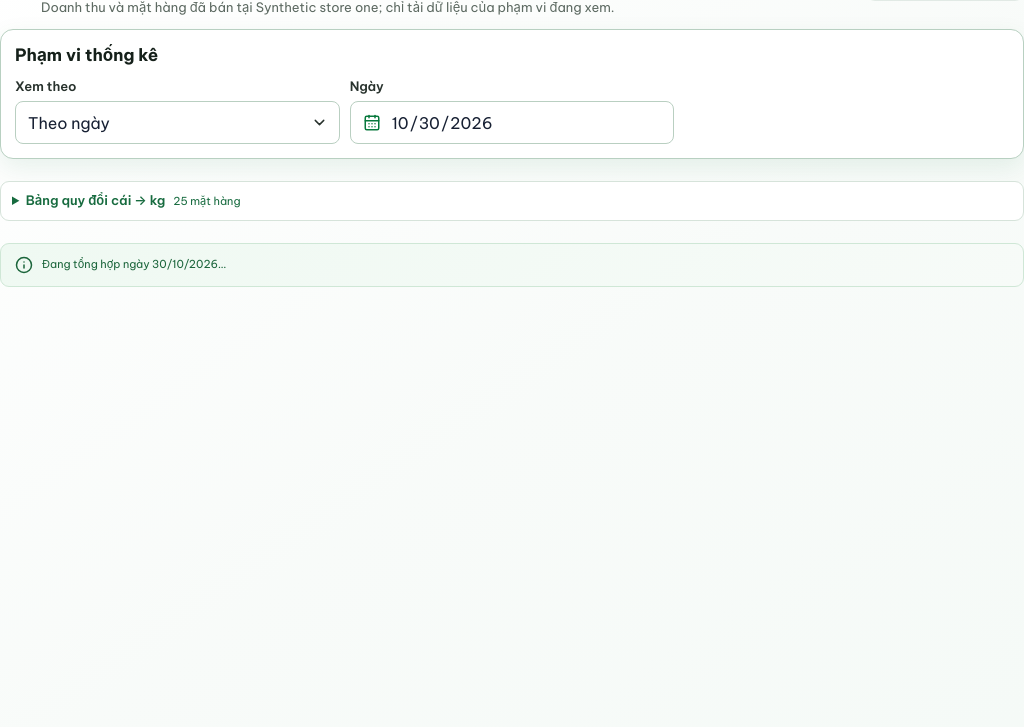
Test: store historical shift selection › selects the recorded evening snapshot and renders its three totals and products, not the day total
The image size is (1024, 727).
In the date field named "Ngày thống kê": (526, 122) top-left (390, 102), bottom-right (661, 143), type "2026-09-06"
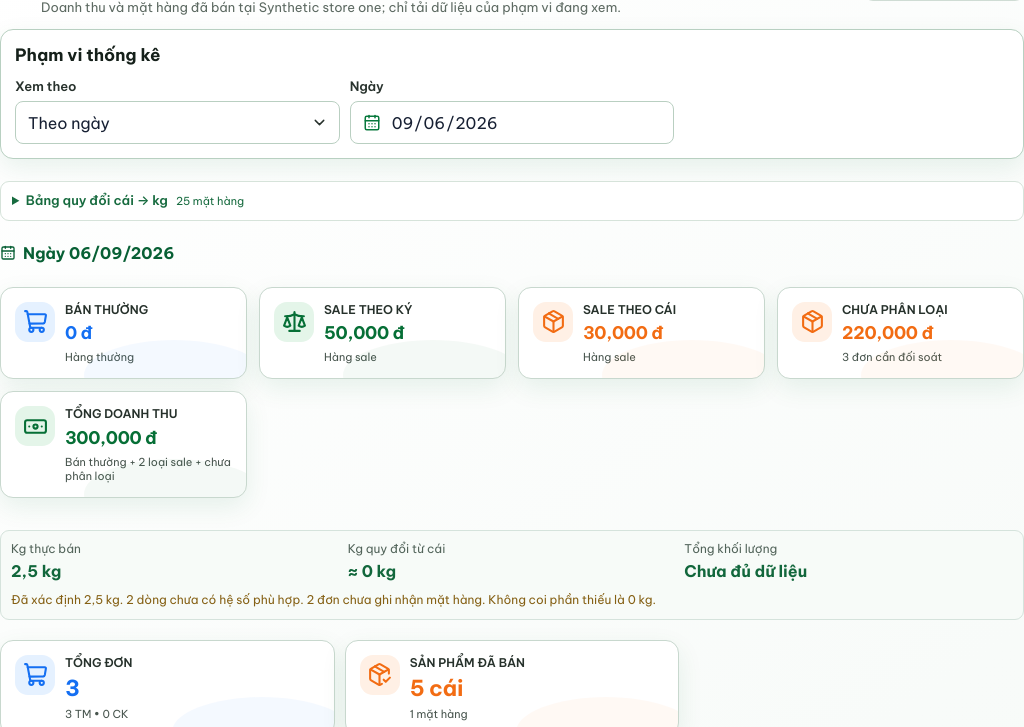
expect the element named "Doanh thu Ngày 06/09/2026" is shown: met, box top-left (0, 286), bottom-right (1023, 498)
Select "Theo ca" in the dropdown named "Xem thống kê theo": (166, 122) top-left (28, 102), bottom-right (305, 143)
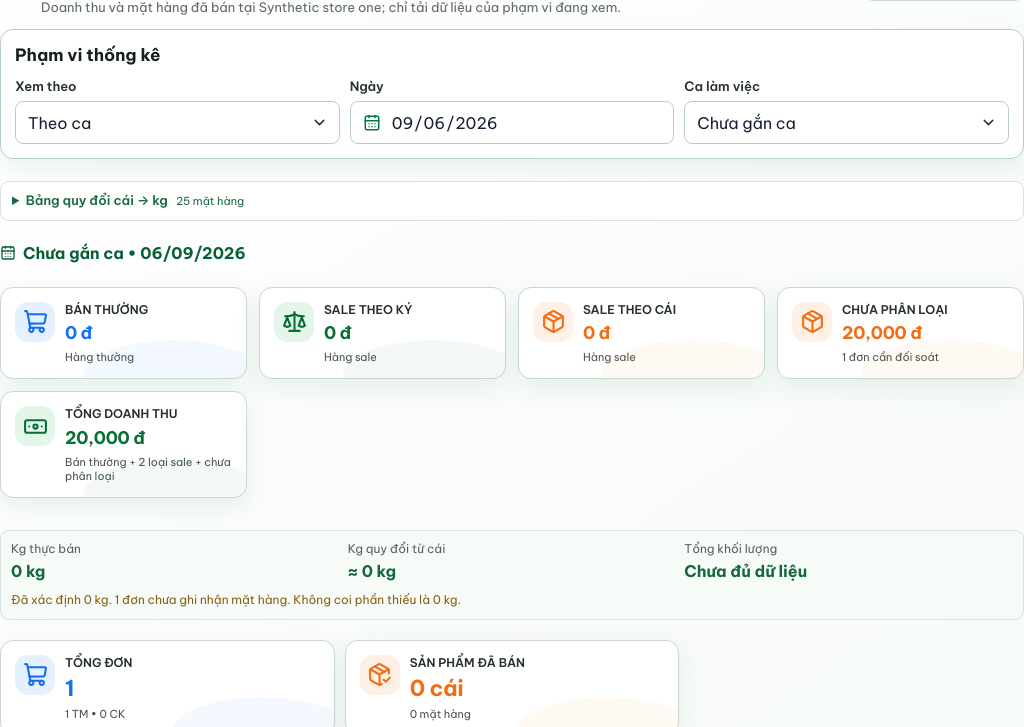
expect the dropdown named "Ca thống kê" is enabled: met
Select "Ca tối (17:00–22:00)" in the dropdown named "Ca thống kê": (836, 122) top-left (697, 102), bottom-right (974, 143)
(page scrolled)
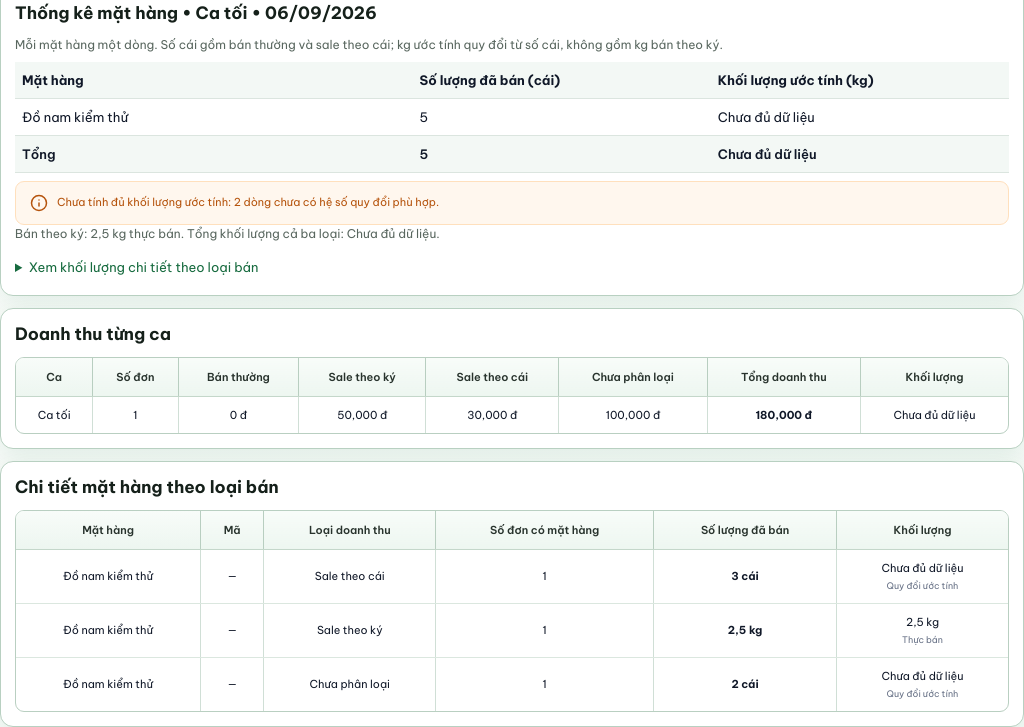
expect the text "300,000 đ" is not shown: met
expect the text "Đồ nam kiểm thử" below "Số lượng đã bán (cái)" is shown: met, box top-left (22, 109), bottom-right (128, 125)
expect the cell "2,5 kg" is shown: met, box top-left (654, 603), bottom-right (836, 657)
